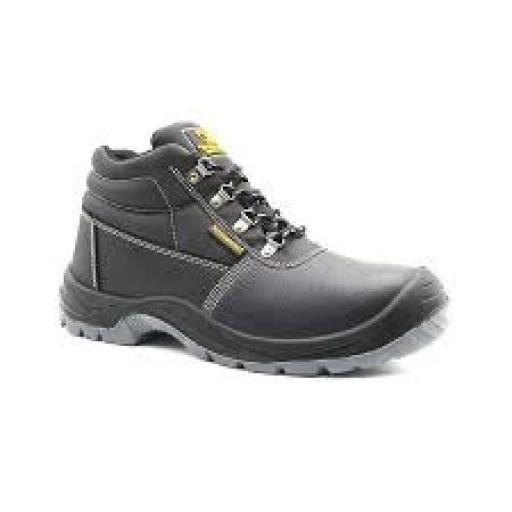safety_boots: (46, 126, 461, 403)
